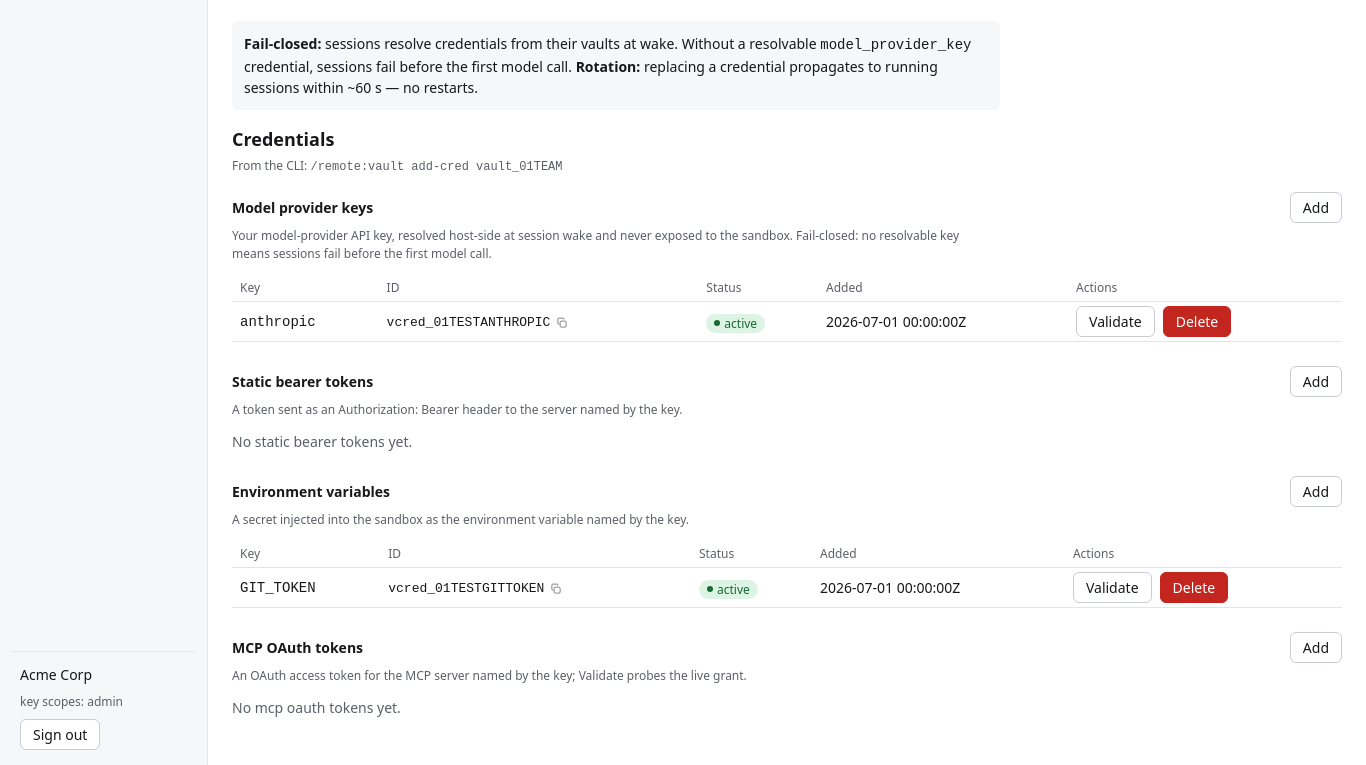
Test: vault detail (§9.3, W11) › add credential (DP-8: secret fields are write-only) › takes the secret as a password field and never echoes it after submit
(page scrolled)
Click the 2nd button "Add".
click(1316, 382)  # box [1290,366,1342,397]
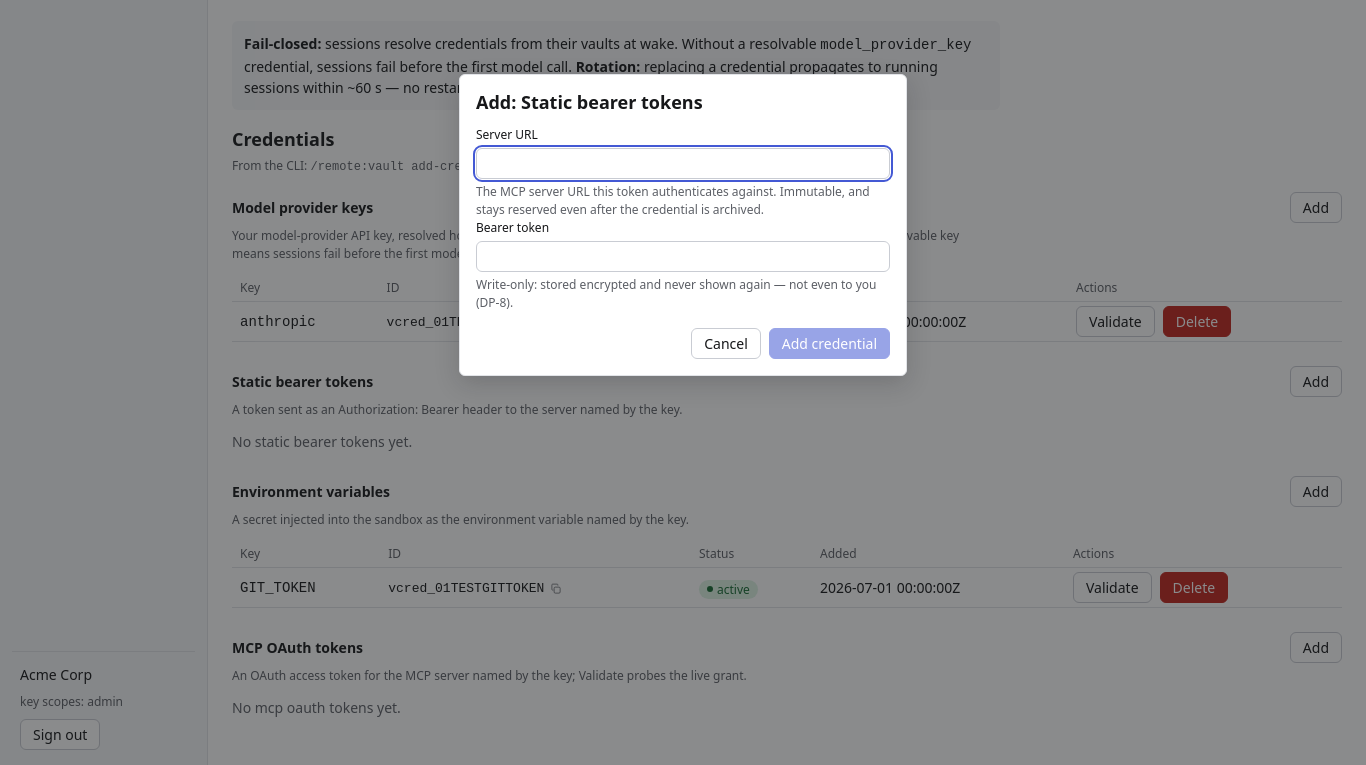
Type "https://mcp.example.com" into the field labelled "Server URL".
click(683, 164); type("https://mcp.example.com")  # box [476,148,890,179]
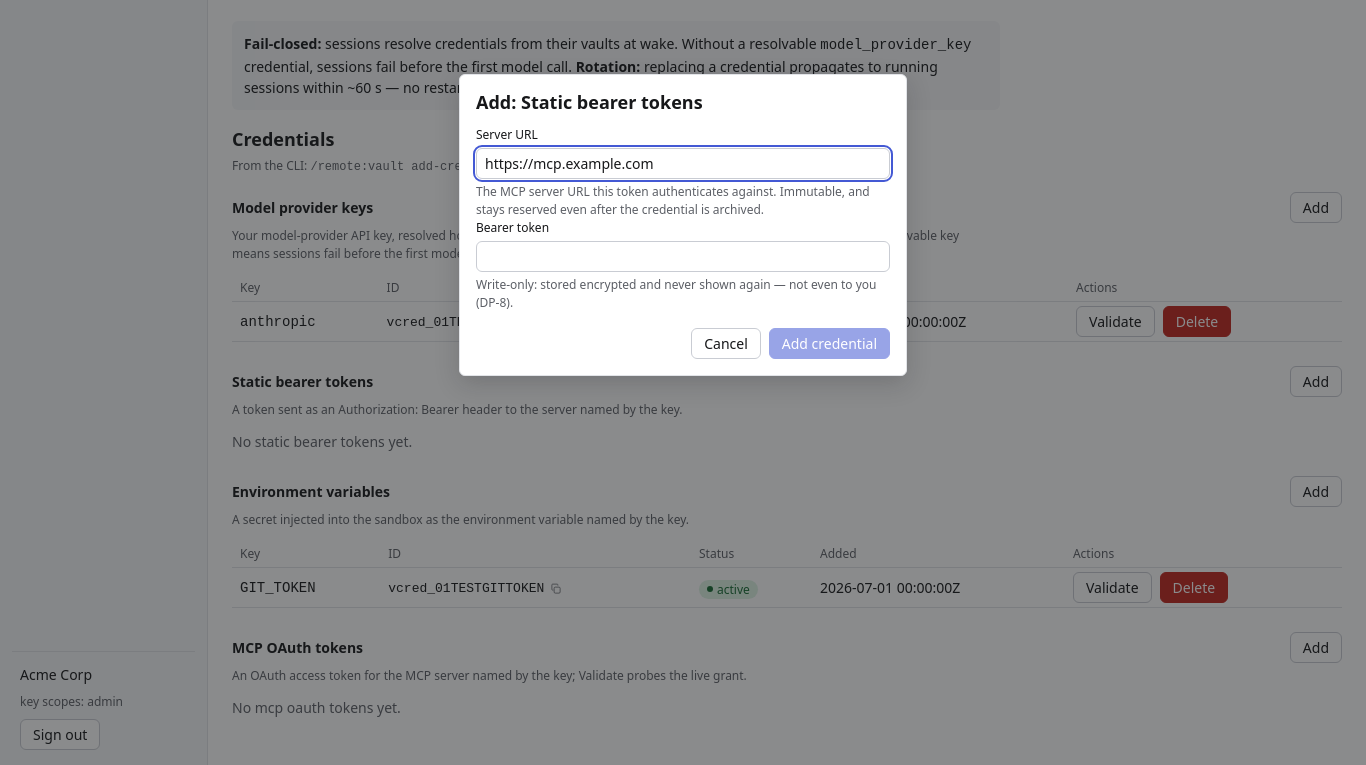
Type "test-placeholder-not-a-secret" into the password field labelled "Bearer token".
click(683, 257); type("test-placeholder-not-a-secret")  # box [476,241,890,272]
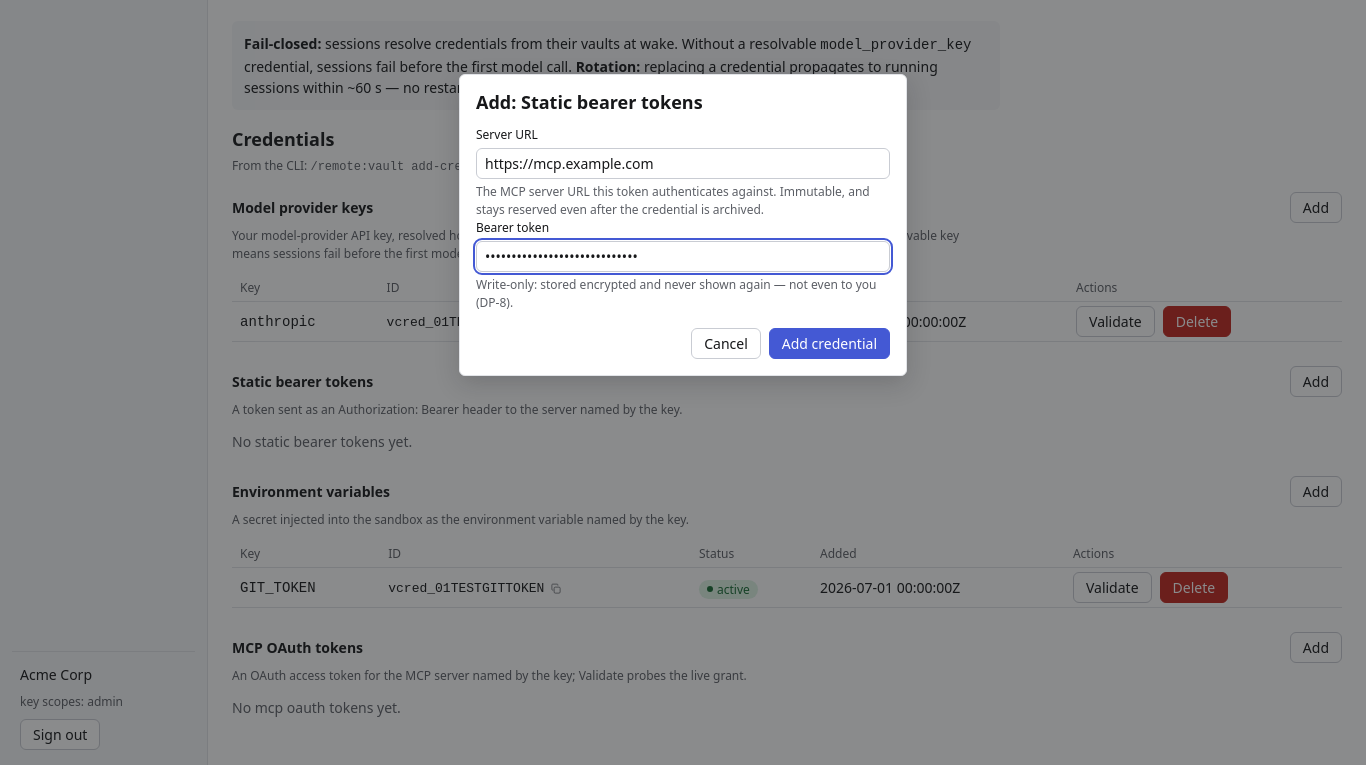
Click the button "Add credential".
click(829, 344)  # box [769,328,890,359]
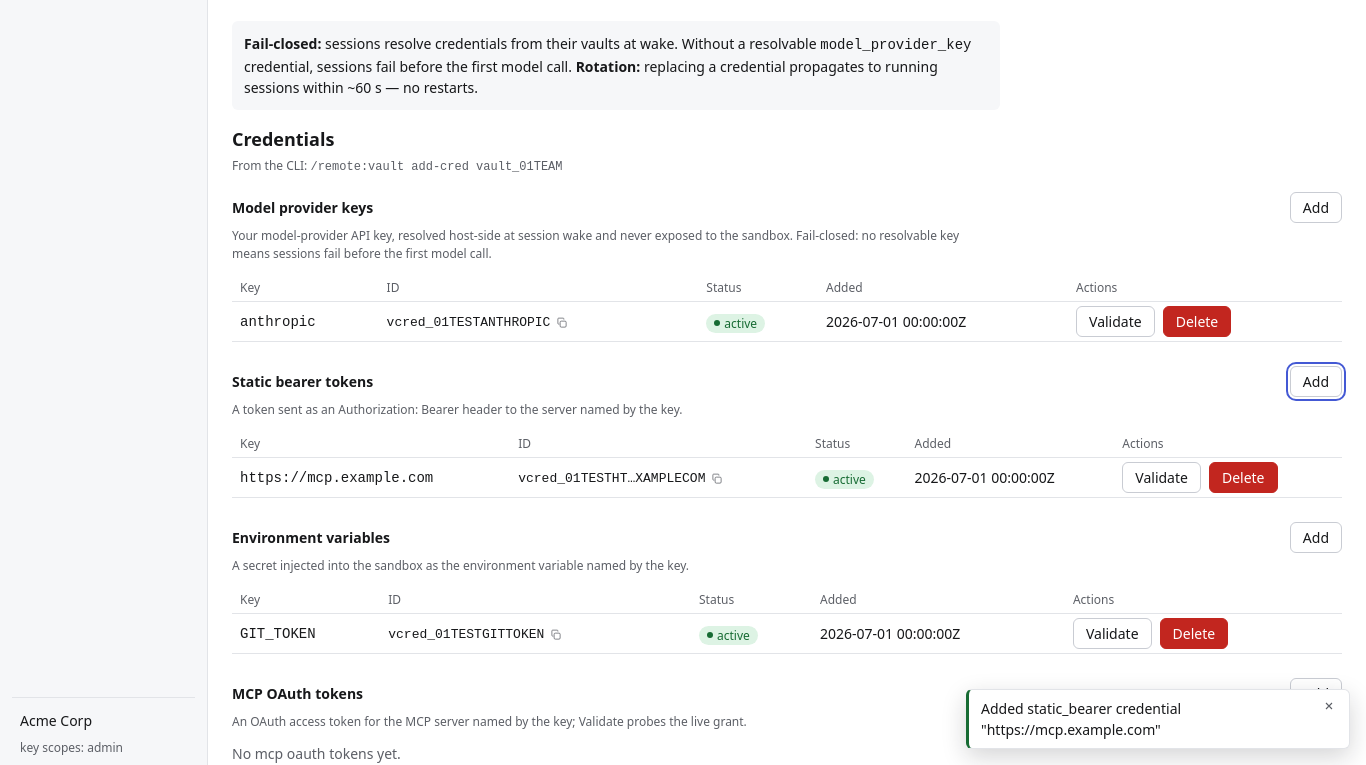
Check: the text "https://mcp.example.com" is shown, box [240,470,433,486]
